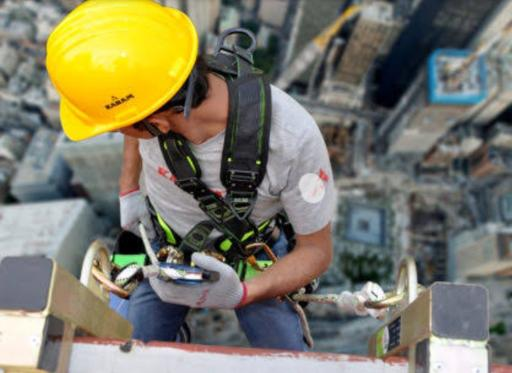hard hat: (43, 1, 207, 146)
